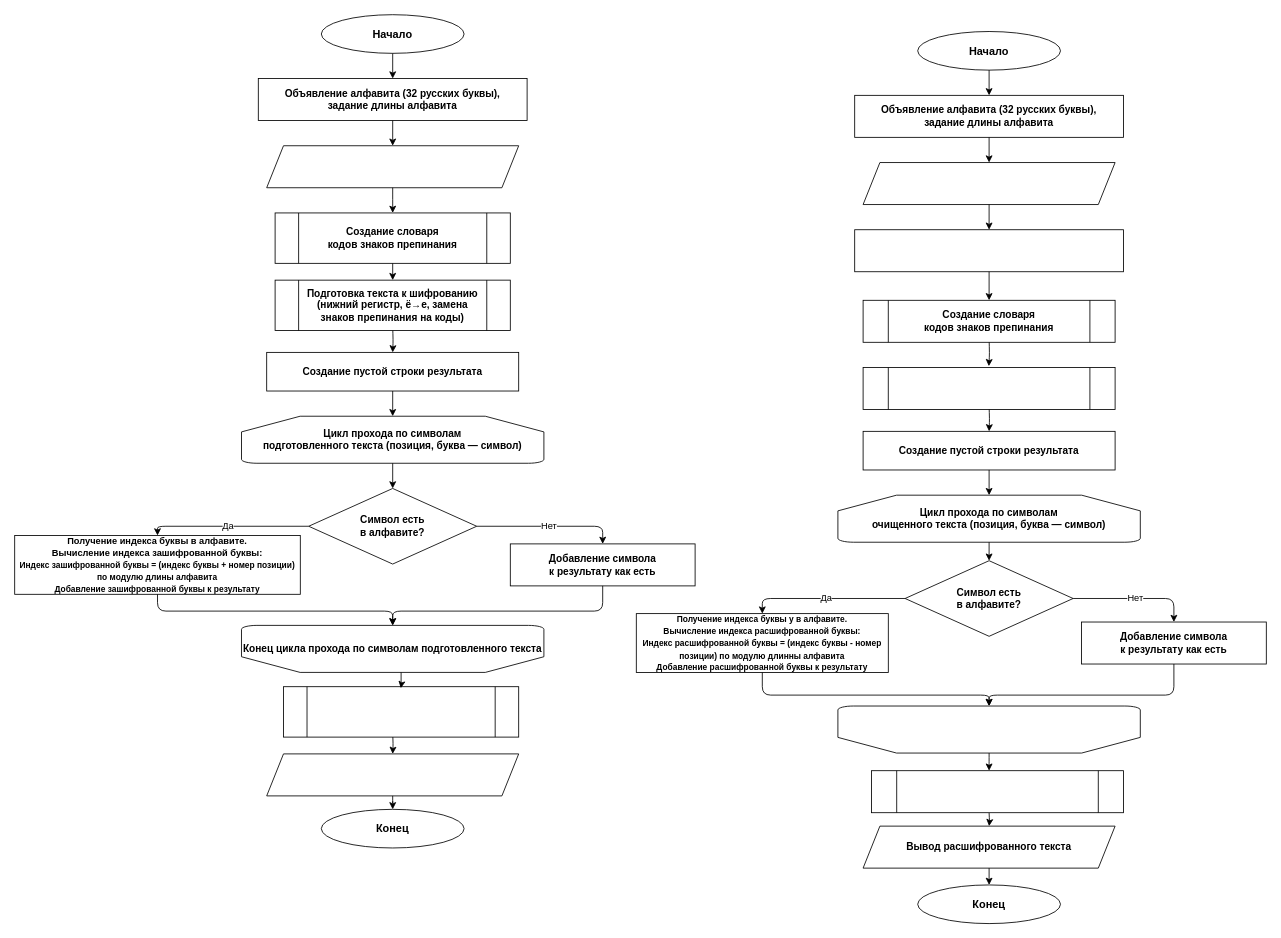
Some shapes in this 1281 by 938 pixel diagram are drawn without their labels. The centre of each missing label's shape, as x and y in pixels:
"Ввод зашифрованного текста" belongs at (x=988, y=183).
"Ввод исходного текста" belongs at (x=392, y=166).
"Восстановление знаков препинания из кодов (тчк→., зпт→, и т.д.)" belongs at (x=997, y=791).
"Вывод зашифрованного текста" belongs at (x=392, y=774).
"Конец цикла прохода по символам очищенного текста" belongs at (x=988, y=729).
"Разбивка на группы по 5 символов, перевод в верхний регистр" belongs at (x=401, y=711).
"Создание обратного словаря (код → знак препинания)" belongs at (x=988, y=388).
"Удаление пробелов между группами, перевод в нижний регистр" belongs at (x=989, y=250).
